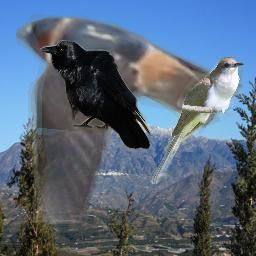Crow: (40, 40, 153, 151)
Cuckoo: (150, 57, 244, 185)
Swallow: (16, 7, 244, 224)
